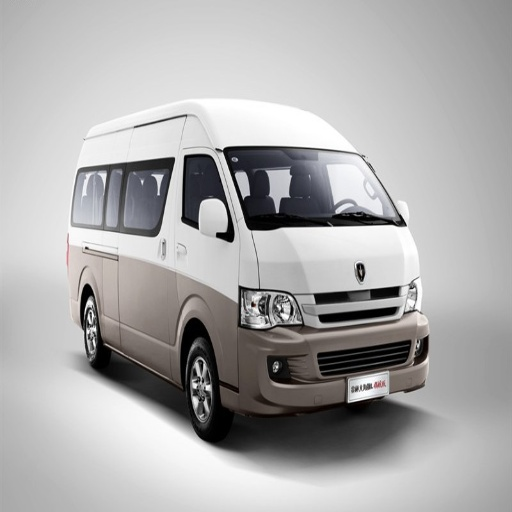front_bumper: (219, 284, 430, 414)
front_right_door: (160, 116, 239, 281), (119, 252, 171, 371)
front_right_light: (241, 290, 302, 330)
